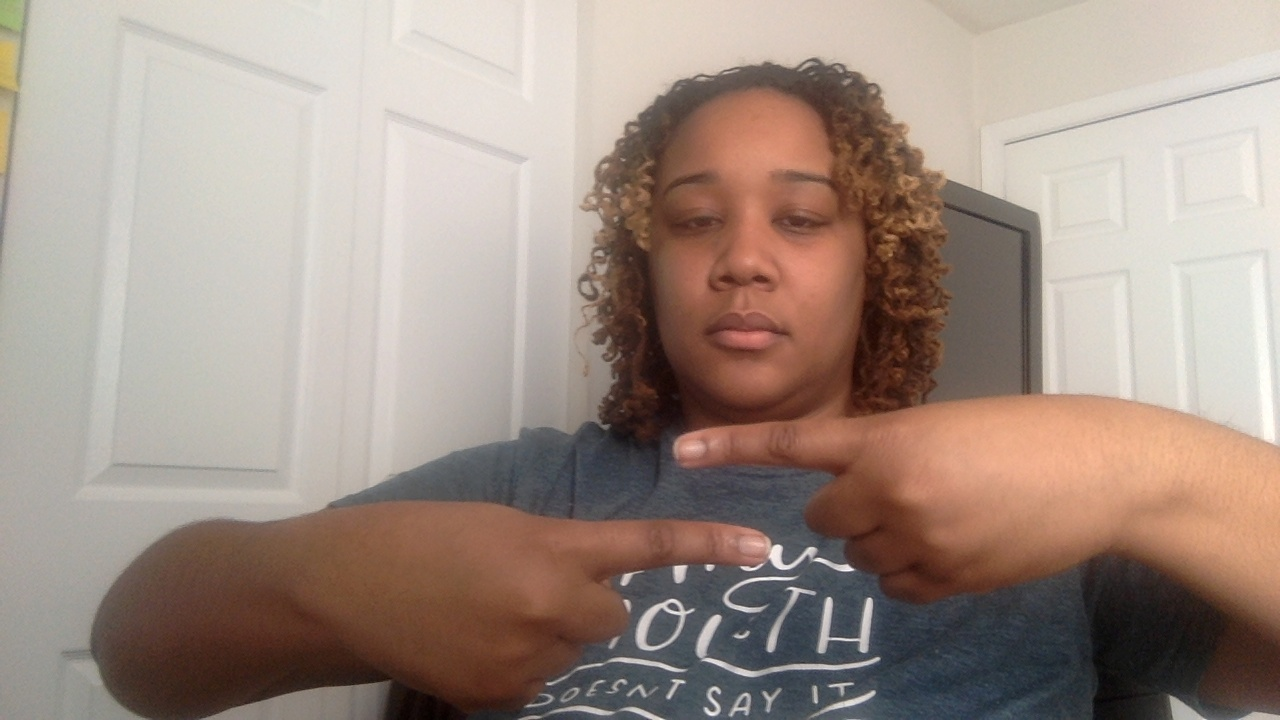go: (79, 390, 1280, 714)
